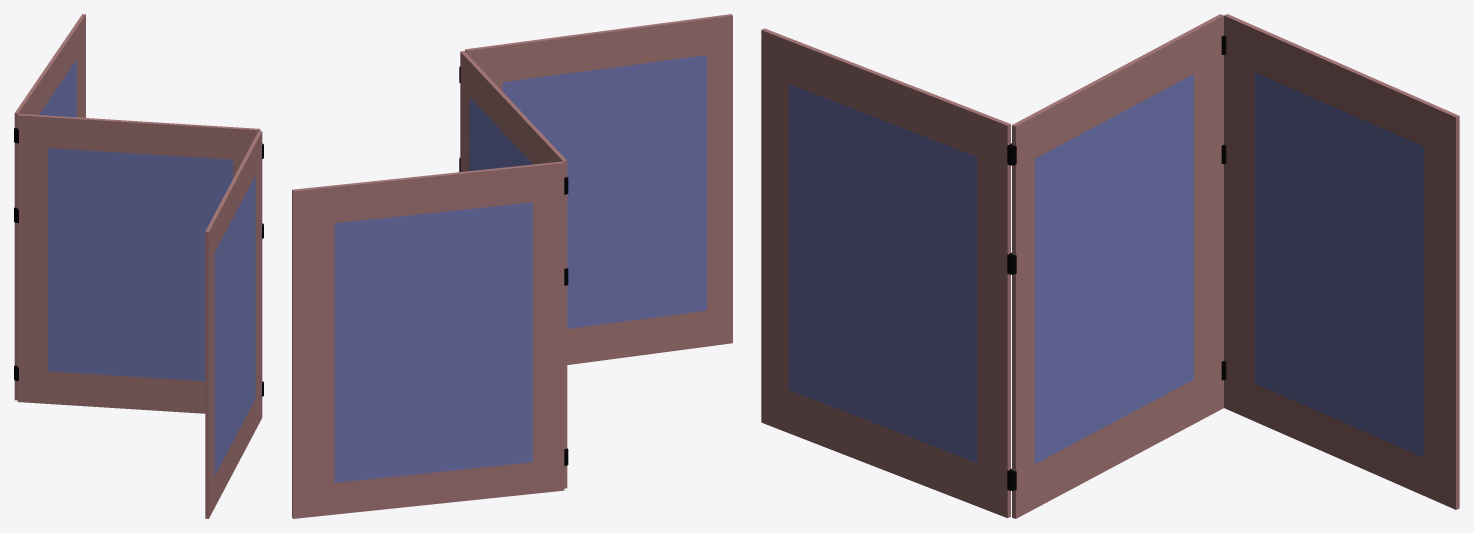
File: Separè_Model.fbx
3 renders of one model, left to right at view 1: azimuth 30°, elevation 25°; view 2: azimuth 150°, elevation 25°; view 3: azimuth 270°, elevation 25°, orthographic. The views are drawn at different scales.
Parts seen in each view (by area): view 1: separè; view 2: separè; view 3: separè.
Part boxes in pixels (x1,y1,x2,y2): separè: (14,14,263,518); separè: (292,14,732,518); separè: (761,14,1459,518).
Size of the model in its own units: 0.0228 by 0.0363 by 0.0586.
1 material, 1 textured.
